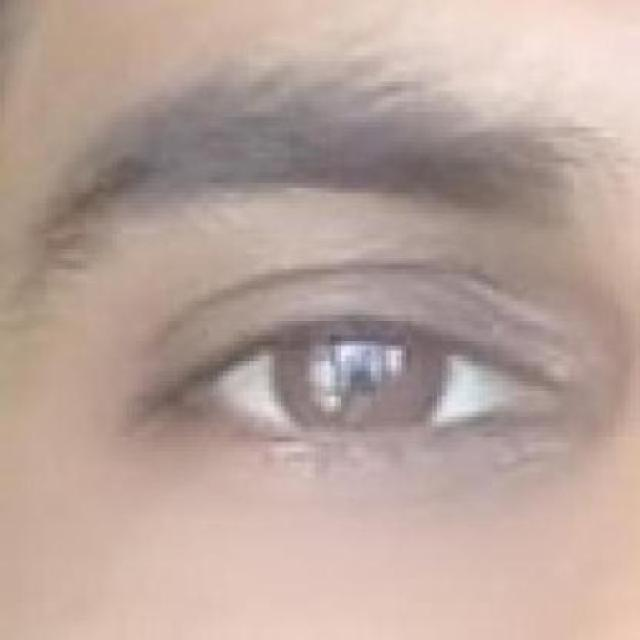awake: (162, 270, 560, 472)
